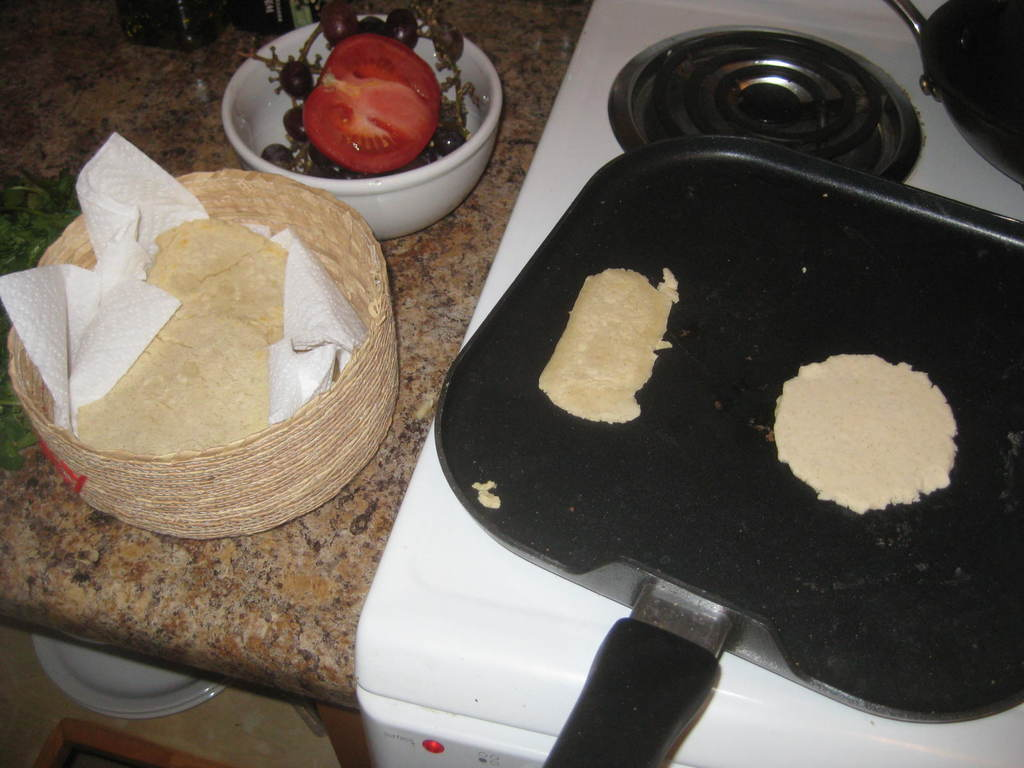Tomato: (304, 32, 443, 177)
